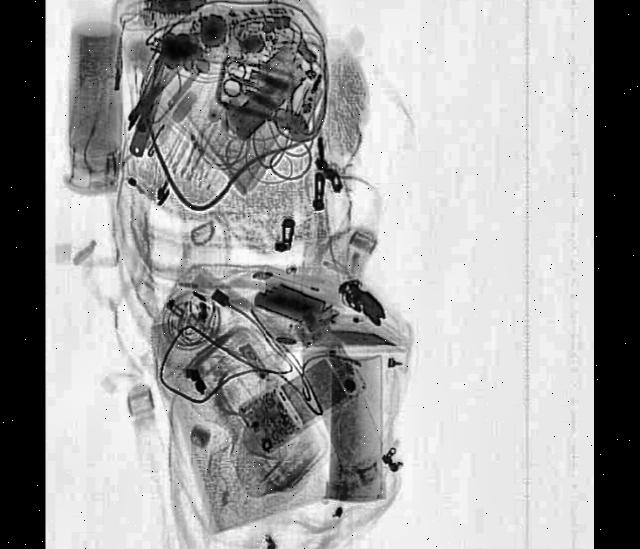Scissors: (222, 57, 274, 110)
